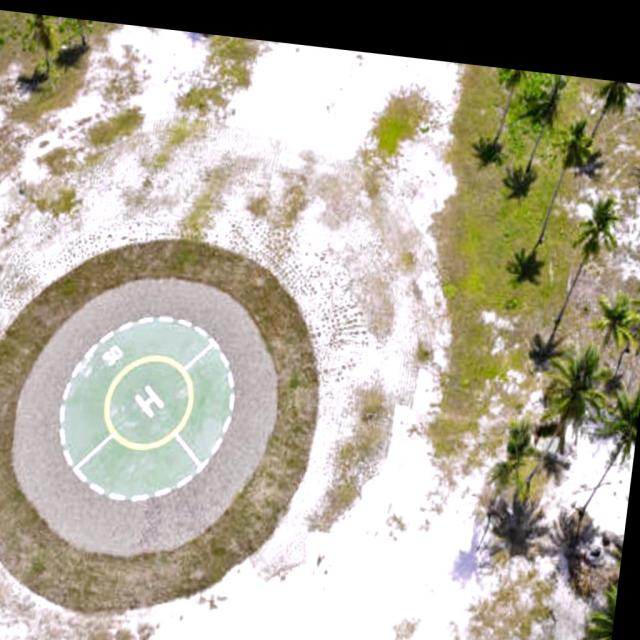helipad: (99, 352, 199, 452)
